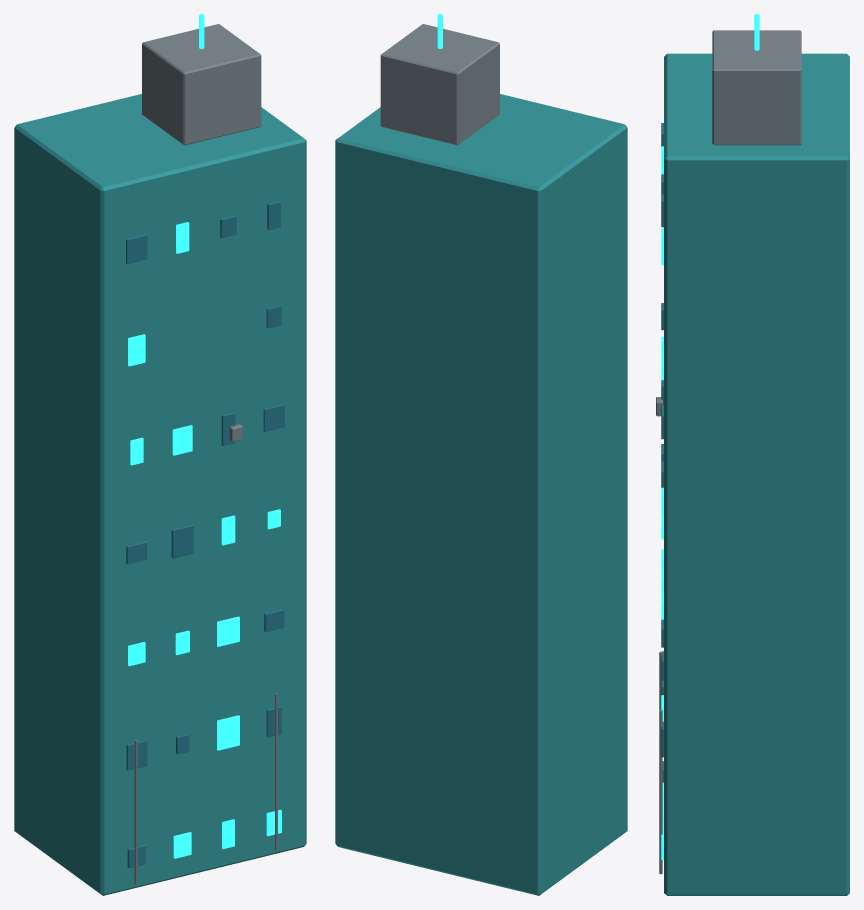
Rendered from building_031_seed11.glb.
3 views of the same model, side by side, from view 1: azimuth 30°, elevation 25°; view 2: azimuth 150°, elevation 25°; view 3: azimuth 270°, elevation 25° (orthographic). The views are drawn at different scales.
Visible parts, largest first — view 1: building_031_seed11; view 2: building_031_seed11; view 3: building_031_seed11.
Part boxes in pixels (x1=…): building_031_seed11: x1=14, y1=14, x2=306, y2=895; building_031_seed11: x1=335, y1=14, x2=627, y2=895; building_031_seed11: x1=656, y1=14, x2=849, y2=895.
Size of the model in its own units: 6.49 by 24.53 by 5.06.
